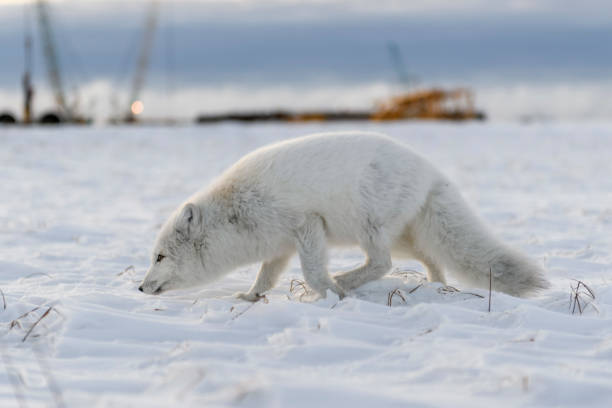arcticfox: (135, 224, 211, 300)
